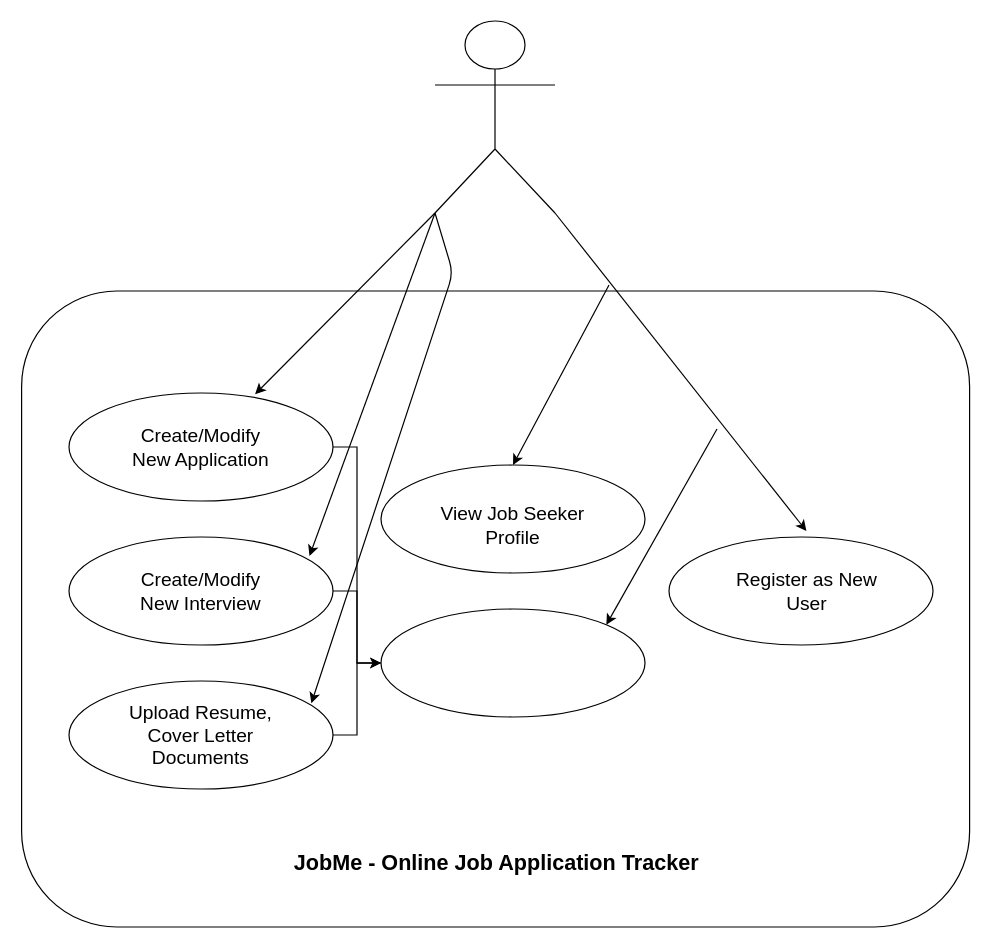
Image size: 990x948. Some labels were removed from this diagram. Here are the shapes that lost their labels. From the top down, the box of each, then its label:
(434, 20, 555, 213): Job Seeker
(380, 608, 645, 717): View Dashboard
